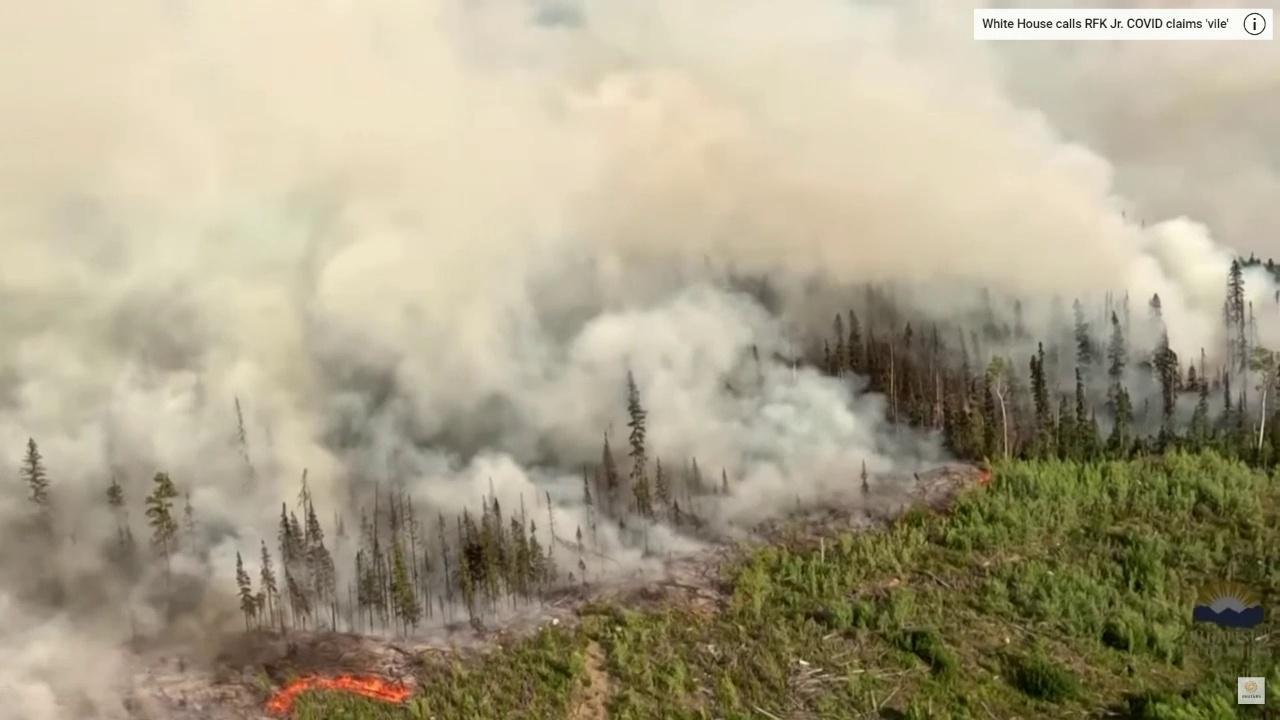fire: (259, 671, 415, 718), (974, 468, 996, 486)
smoke: (0, 0, 1280, 720)
